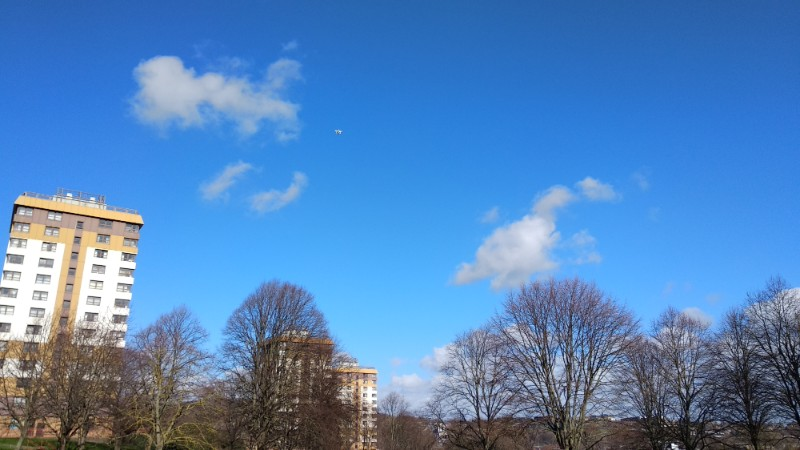drone: (332, 127, 345, 137)
